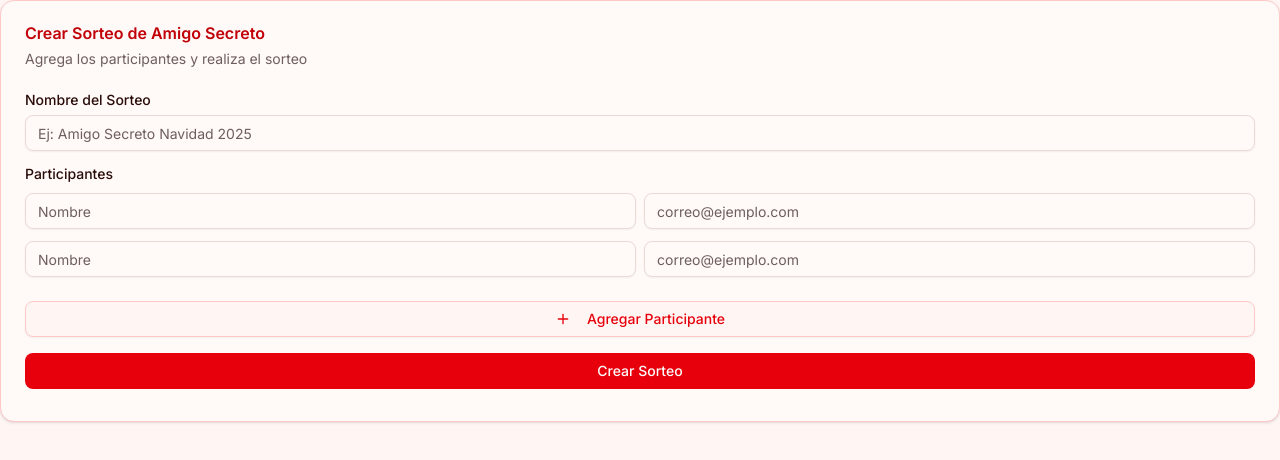
Test case: SecretSantaForm Component › debería mostrar error si falla la creación
Type "Sorteo" into the field labelled "Nombre del Sorteo" at (640, 133), box [25,115,1255,151]
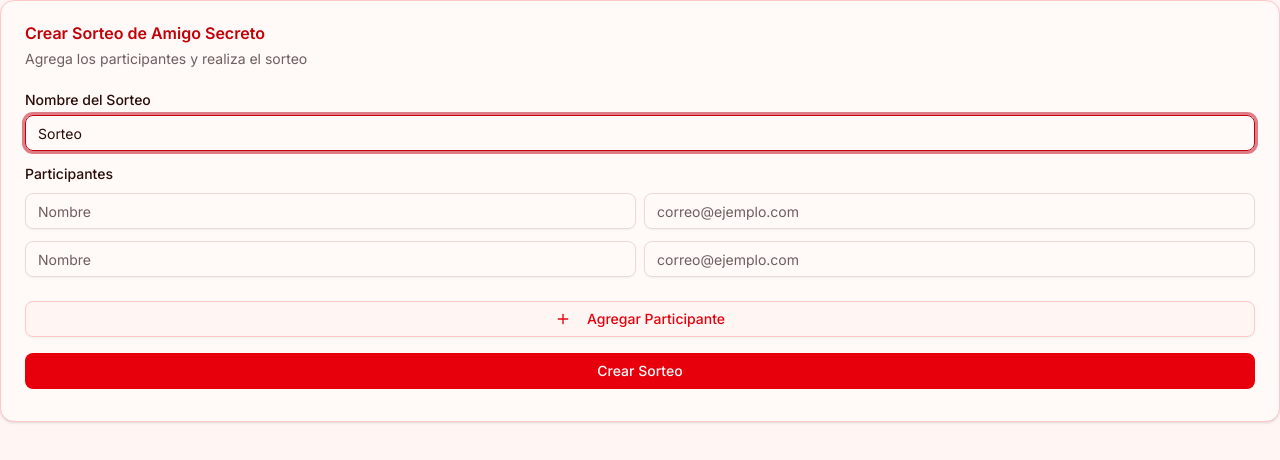
Type "Juan" into the 1st field with placeholder "Nombre" at (330, 211), box [25,193,636,229]
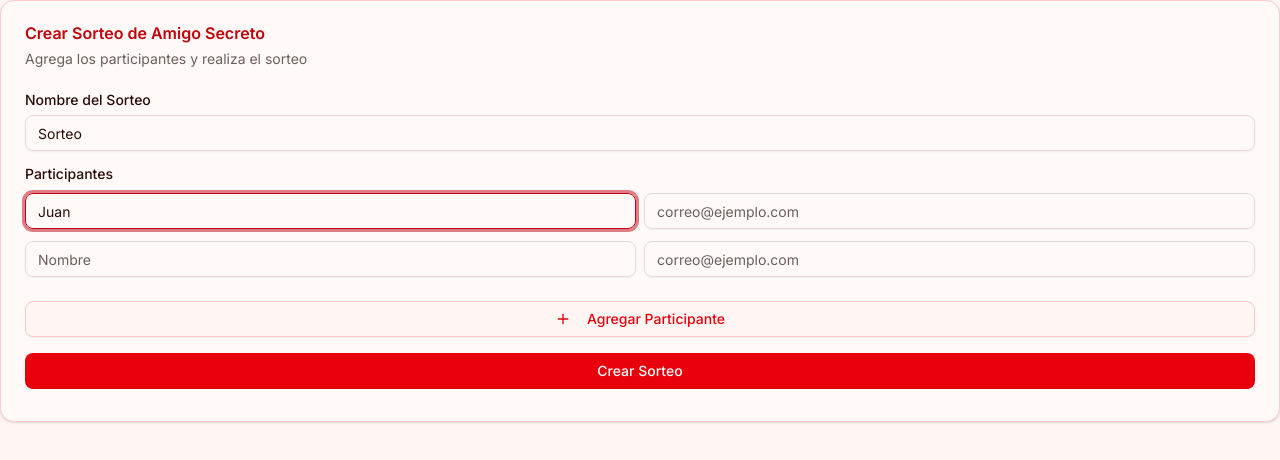
Type "juan@example.com" into the 1st field with placeholder "correo@ejemplo.com" at (950, 211), box [644,193,1255,229]
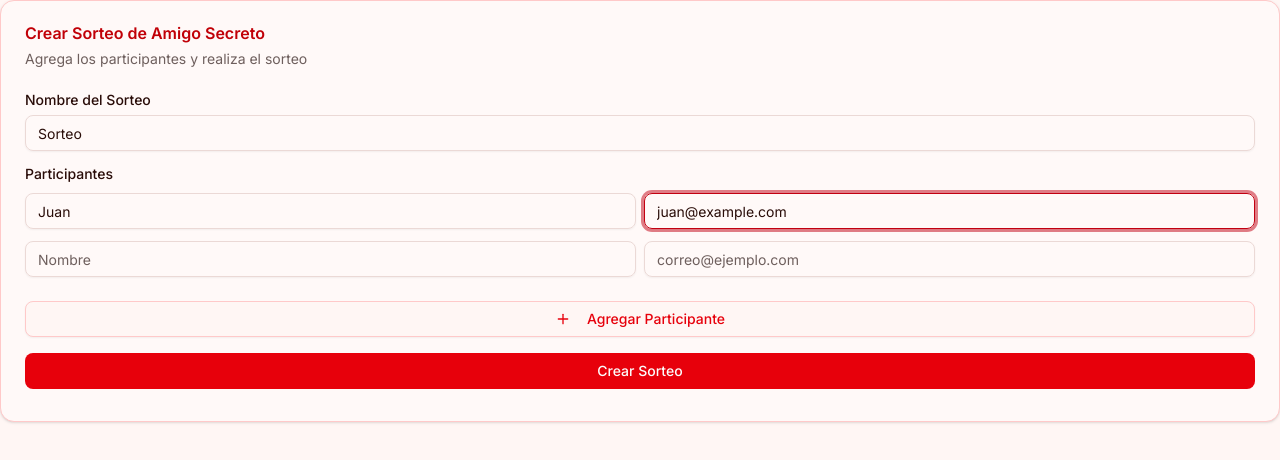
Type "María" into the field with placeholder "Nombre" at (330, 259), box [25,241,636,277]
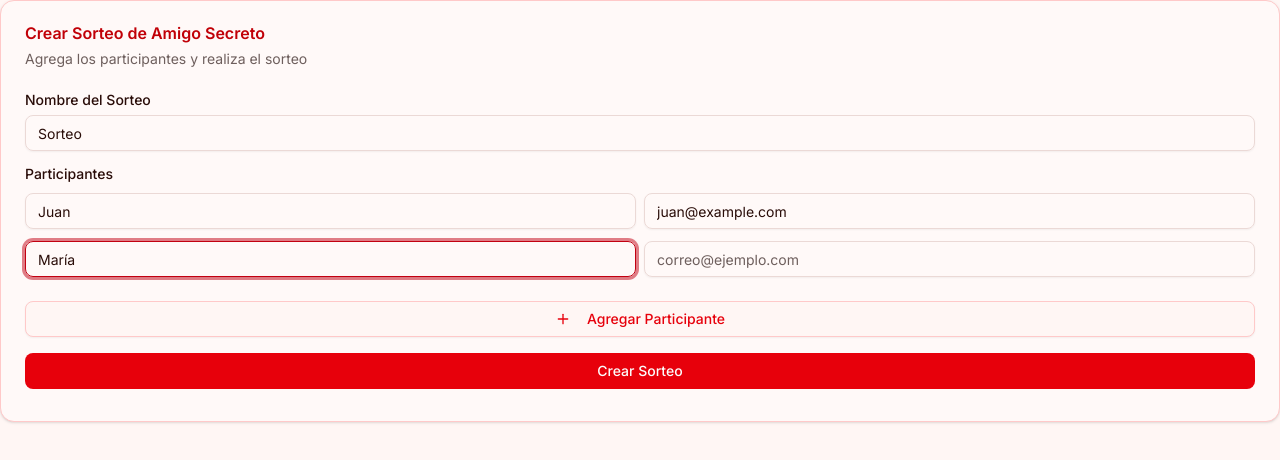
Type "maria@example.com" into the field with placeholder "correo@ejemplo.com" at (950, 259), box [644,241,1255,277]
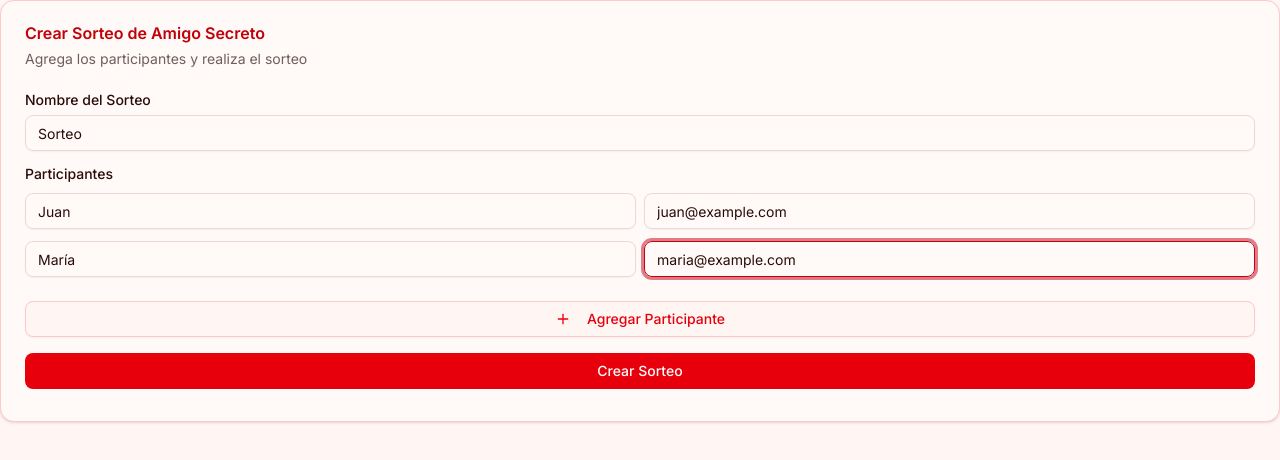
Click the button "Crear Sorteo" at (640, 371), box [25,353,1255,389]
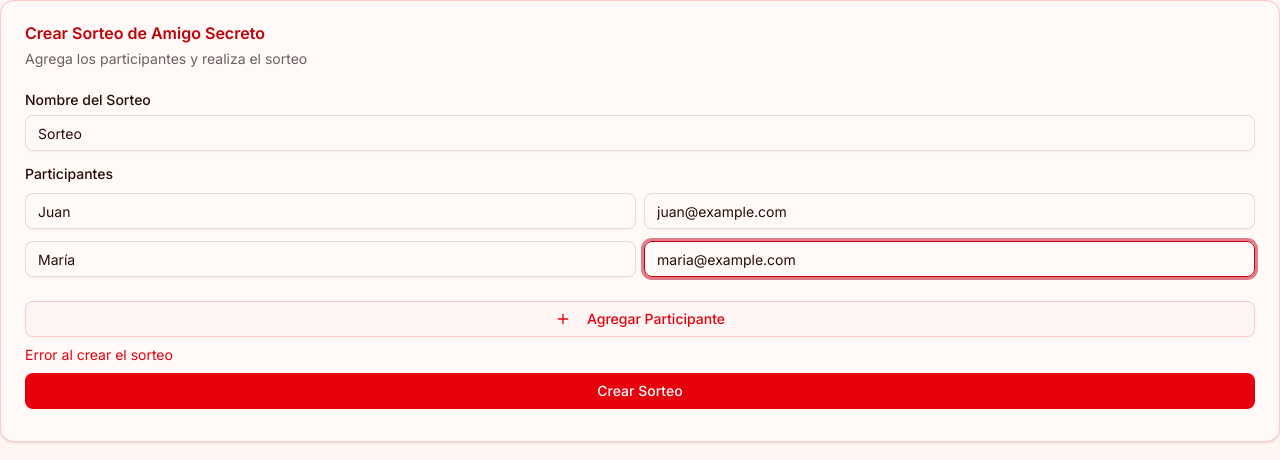
expect the text "Error al crear el sorteo" is shown: met, box [25,346,173,363]
